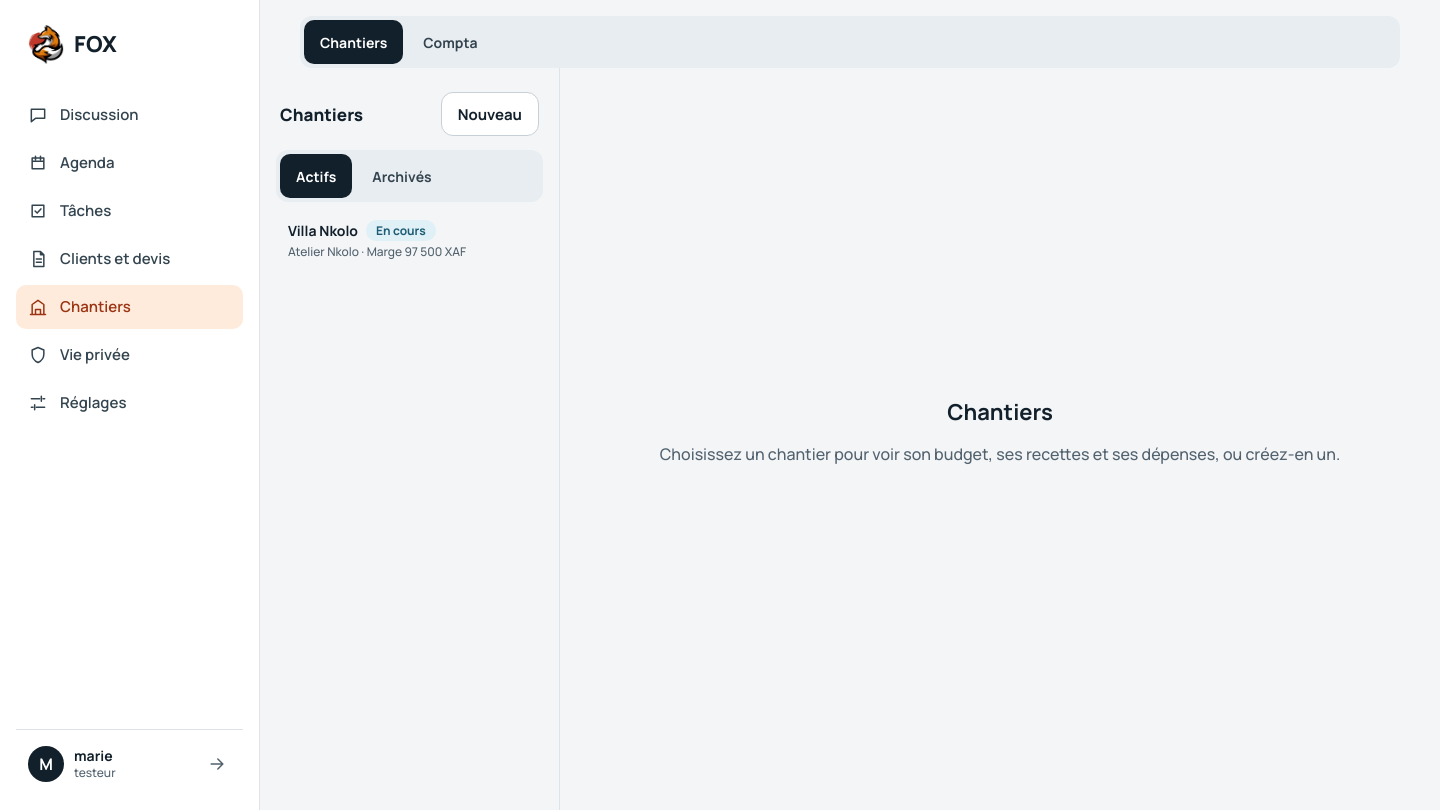
Chantiers › change le statut puis archive
Step 1. Click the button "Villa Nkolo En cours Atelier Nkolo · Marge 97 500 XAF" → (410, 240), box [276,208,543,272]
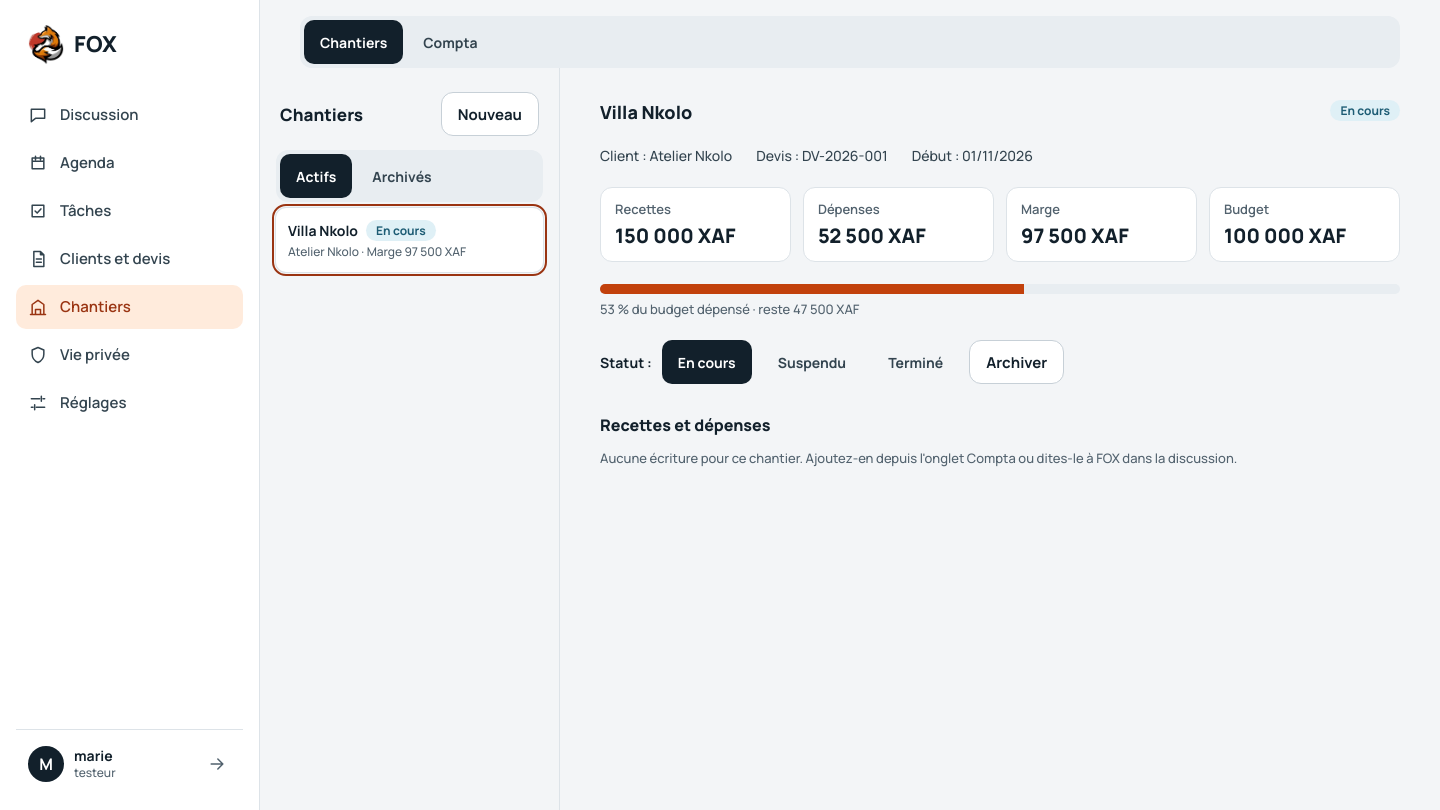
Step 2. Click the button "Terminé" → (916, 362), box [872,340,959,384]
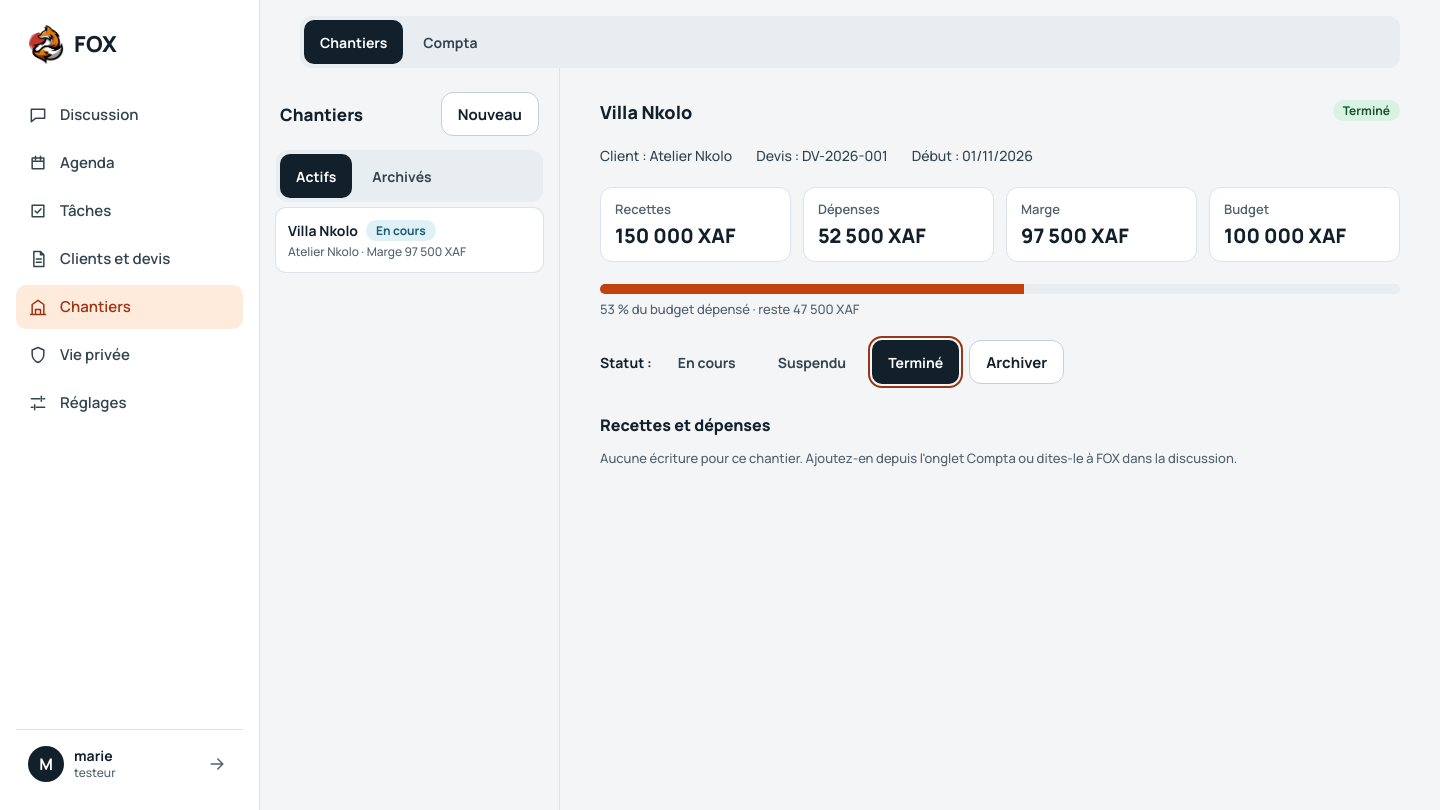
Step 3. Click the button "Archiver" → (1017, 362), box [969,340,1064,384]
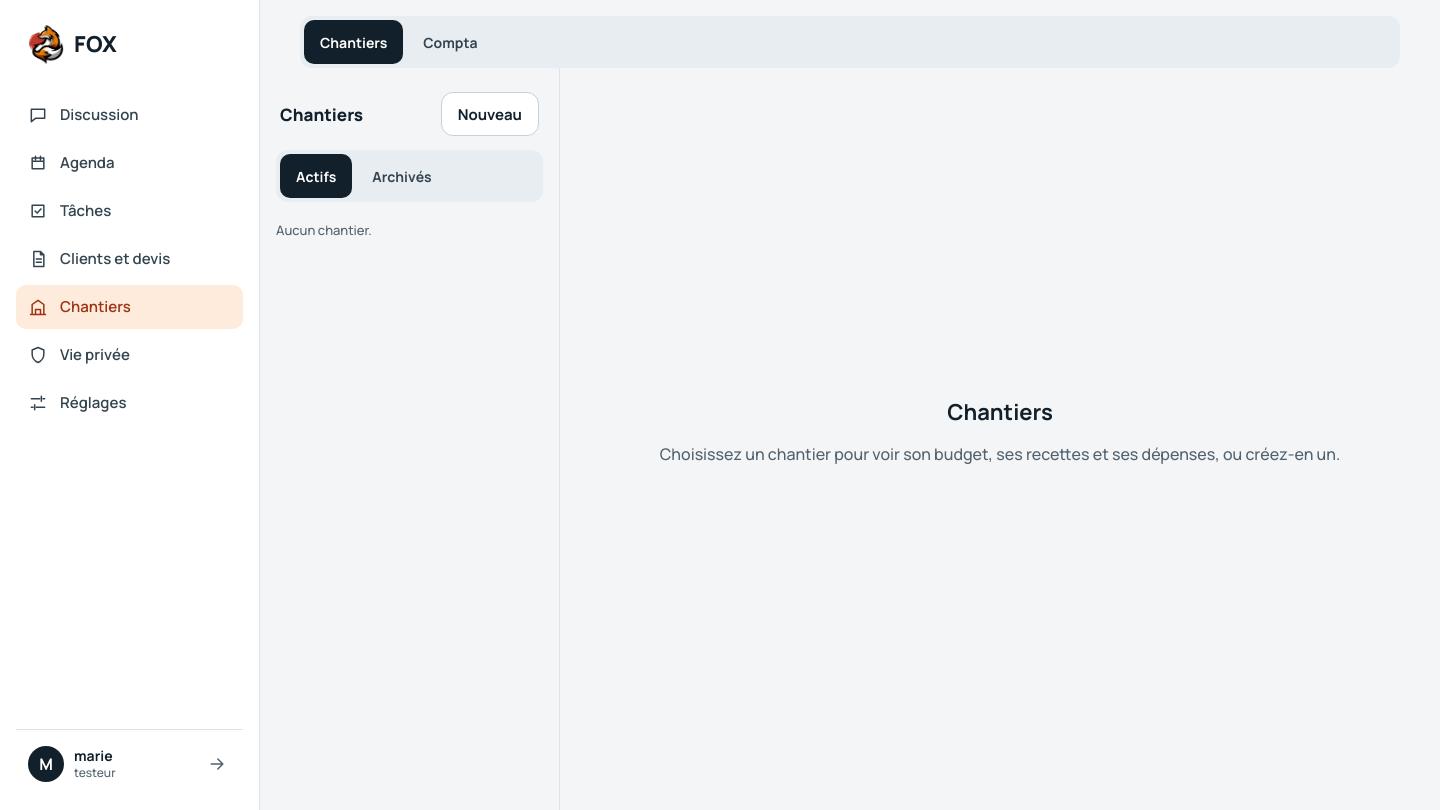
Now the button "Villa Nkolo" is gone
